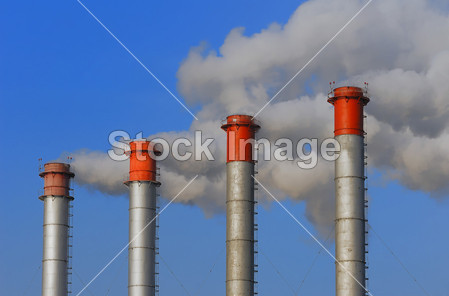dust: (175, 28, 301, 124), (327, 40, 449, 130), (117, 112, 226, 175), (43, 133, 134, 194)
